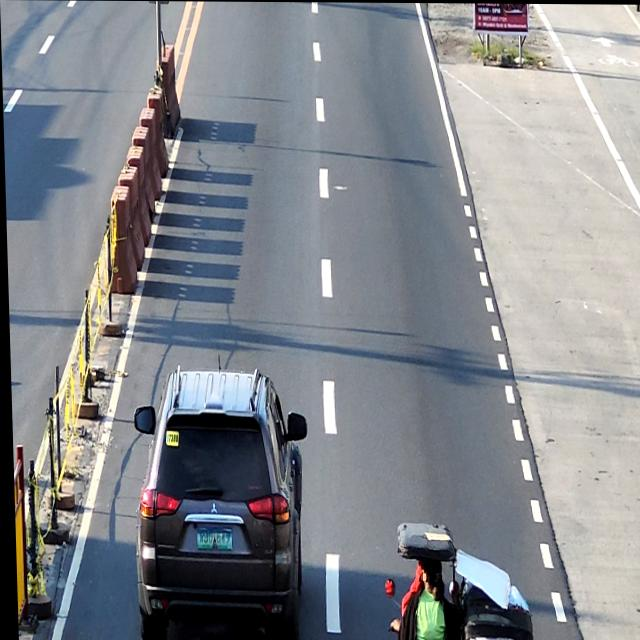Car: (130, 368, 309, 640)
License-Plate: (194, 528, 229, 552)
Tricycle: (380, 521, 528, 640)
